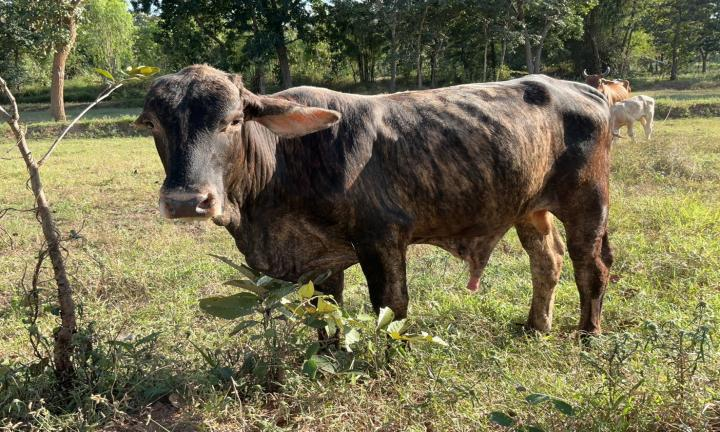Charolais: (136, 65, 613, 333)
